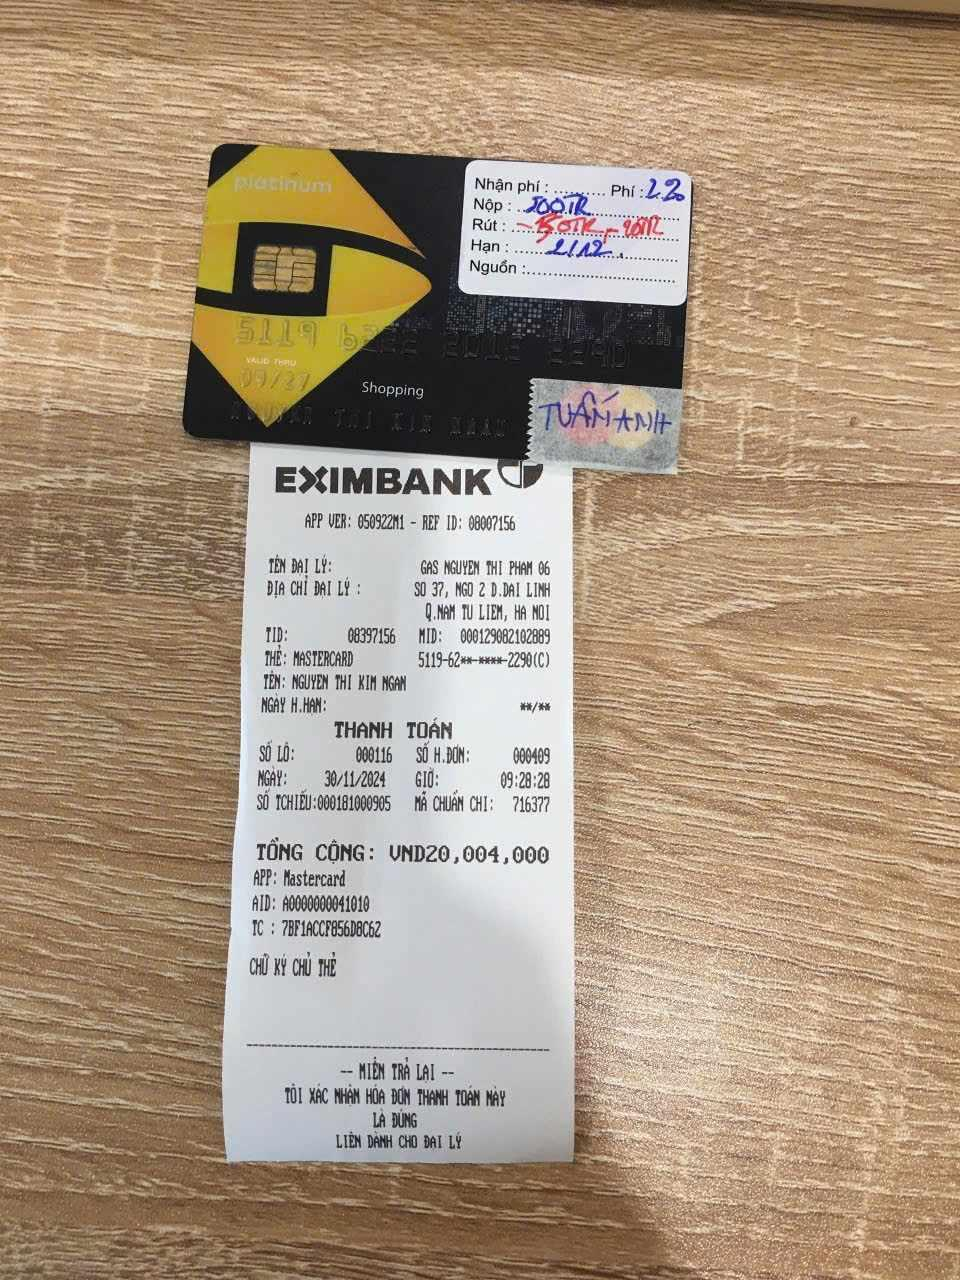receipt: (237, 446, 566, 950)
